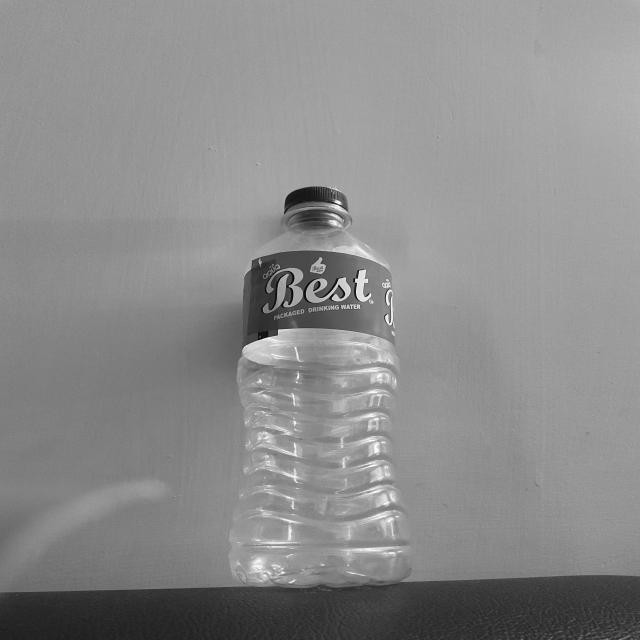Good-cap-Df0S: (282, 186, 353, 222)
